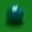green: (0, 0, 32, 32)
